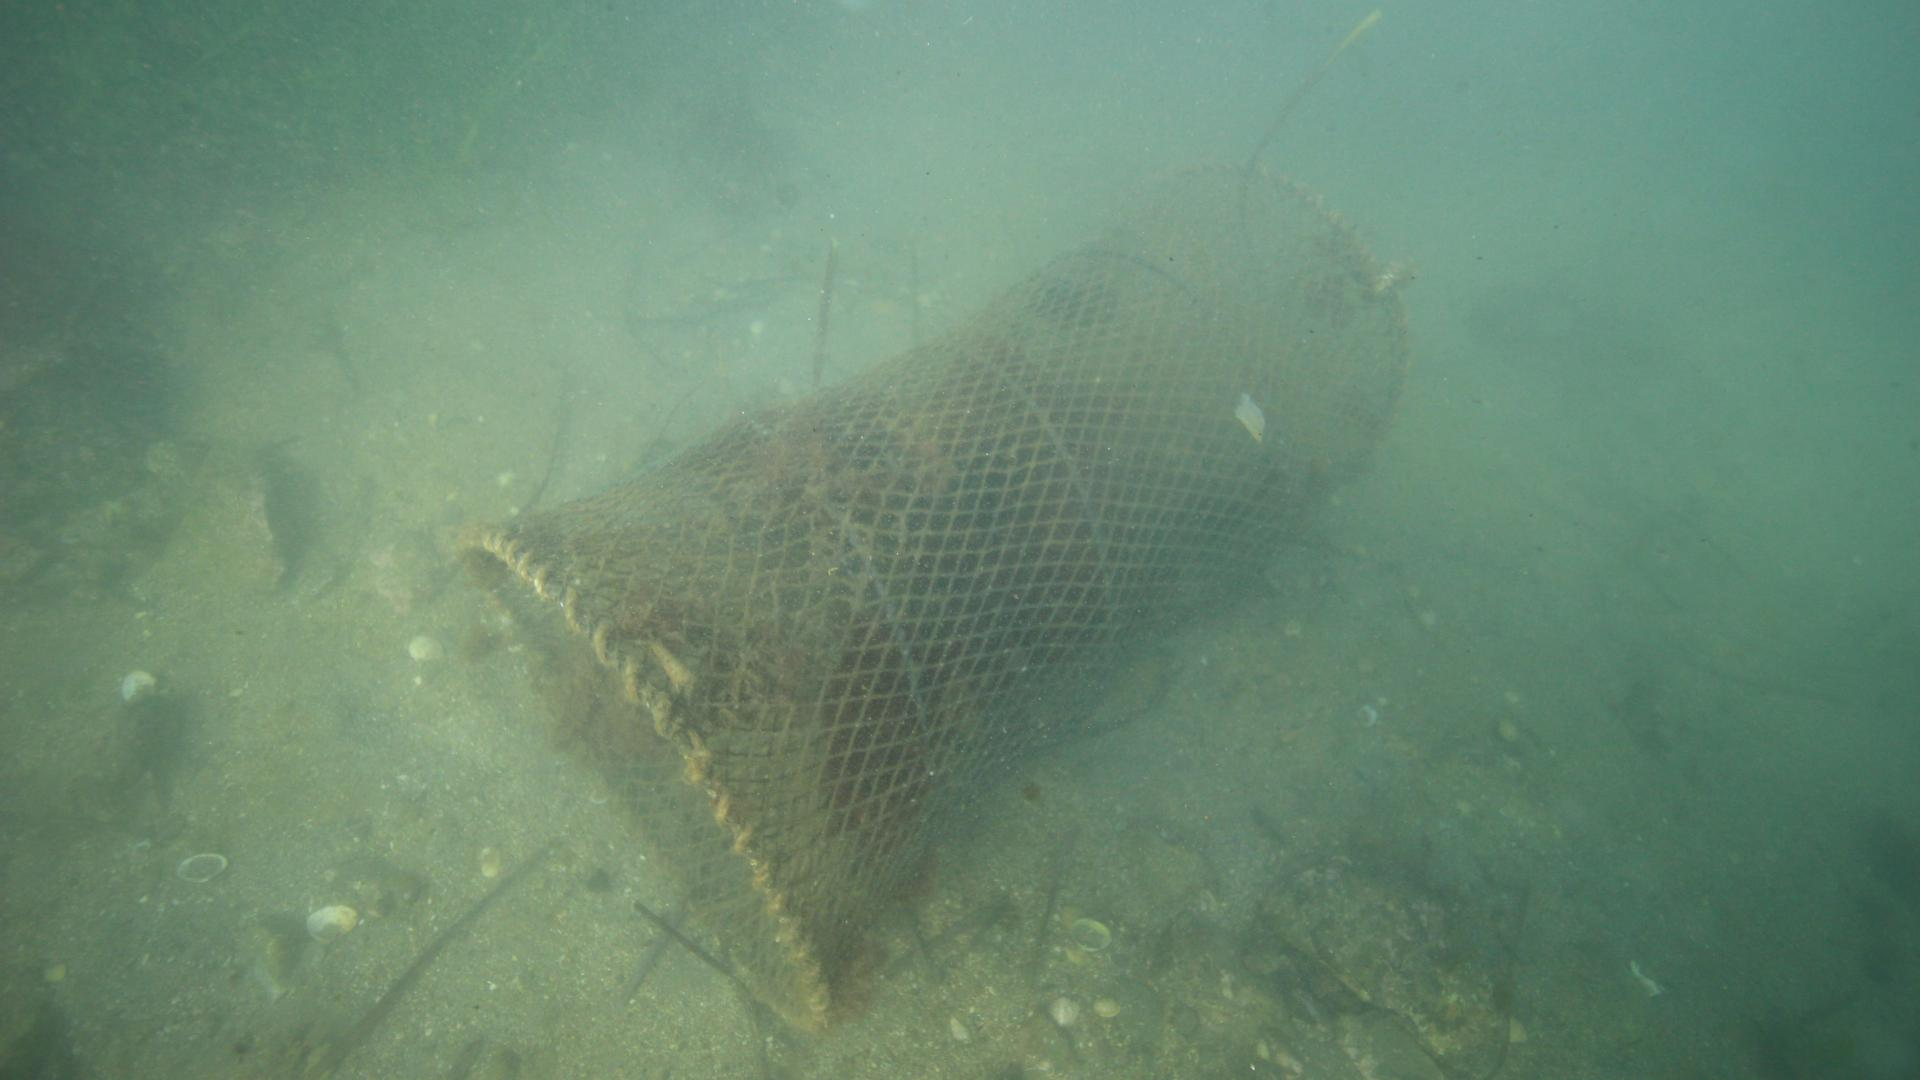spring fish trap: (444, 152, 1408, 1034)
